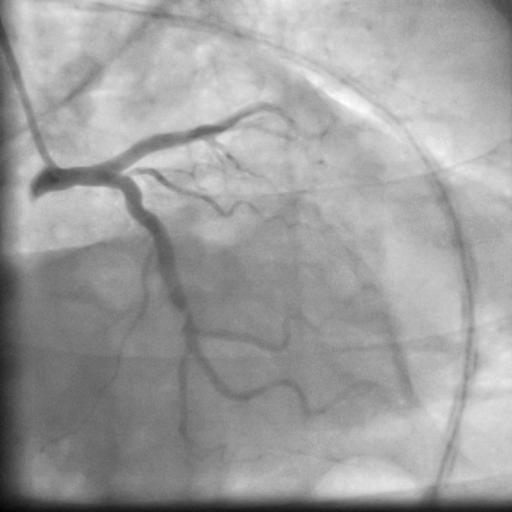Stenosis: (176, 304, 194, 327)
